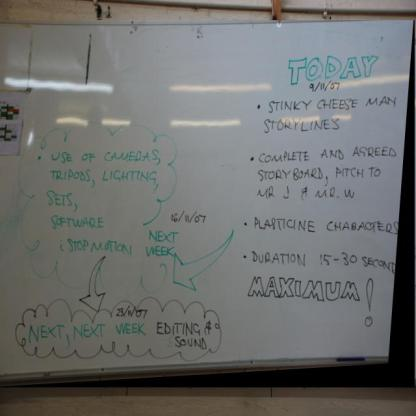Handwritten text: (261, 94, 401, 136), (246, 273, 360, 313), (246, 243, 397, 273), (276, 46, 382, 87), (247, 208, 393, 236), (21, 317, 150, 343), (40, 163, 159, 186), (244, 163, 386, 182), (255, 181, 368, 204), (259, 146, 398, 164), (48, 145, 166, 163), (150, 315, 212, 347), (68, 230, 133, 259), (49, 208, 103, 233), (143, 225, 180, 259), (43, 187, 74, 211)
Whiteboard: (0, 19, 413, 379)
